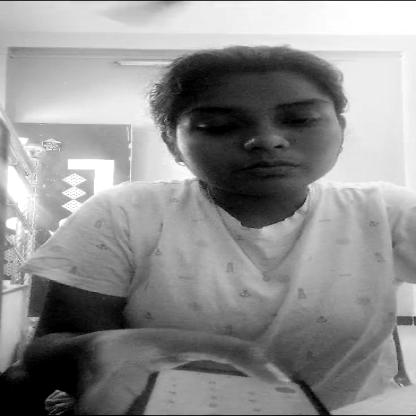Normal: (156, 65, 352, 186)
